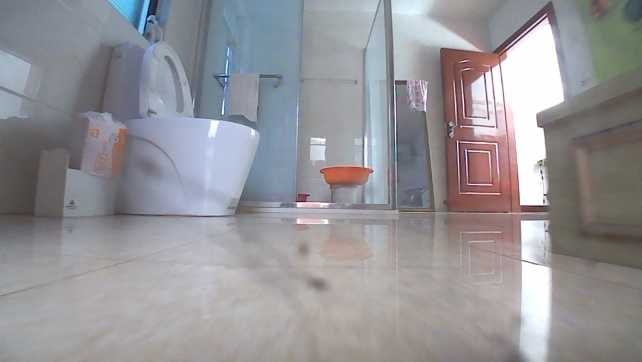door_anno: (433, 45, 525, 215)
toilet: (99, 35, 262, 222)
